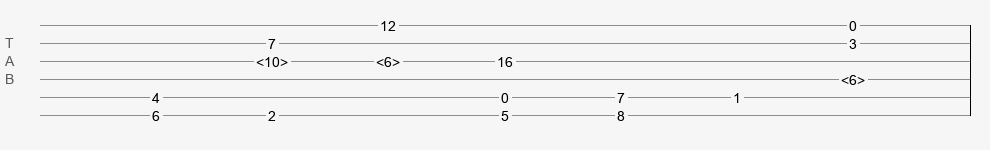0: (501, 90, 509, 100), (849, 18, 857, 28)
1: (733, 90, 741, 100)
12: (380, 18, 396, 28)
16: (497, 54, 513, 64)
2: (268, 108, 276, 118)
3: (849, 36, 857, 46)
4: (152, 90, 160, 100)
5: (501, 108, 509, 118)
6: (152, 108, 160, 118)
7: (268, 36, 276, 46), (617, 90, 625, 100)
8: (617, 108, 625, 118)
harmonic: (256, 54, 288, 64), (376, 54, 400, 64), (841, 72, 865, 82)
